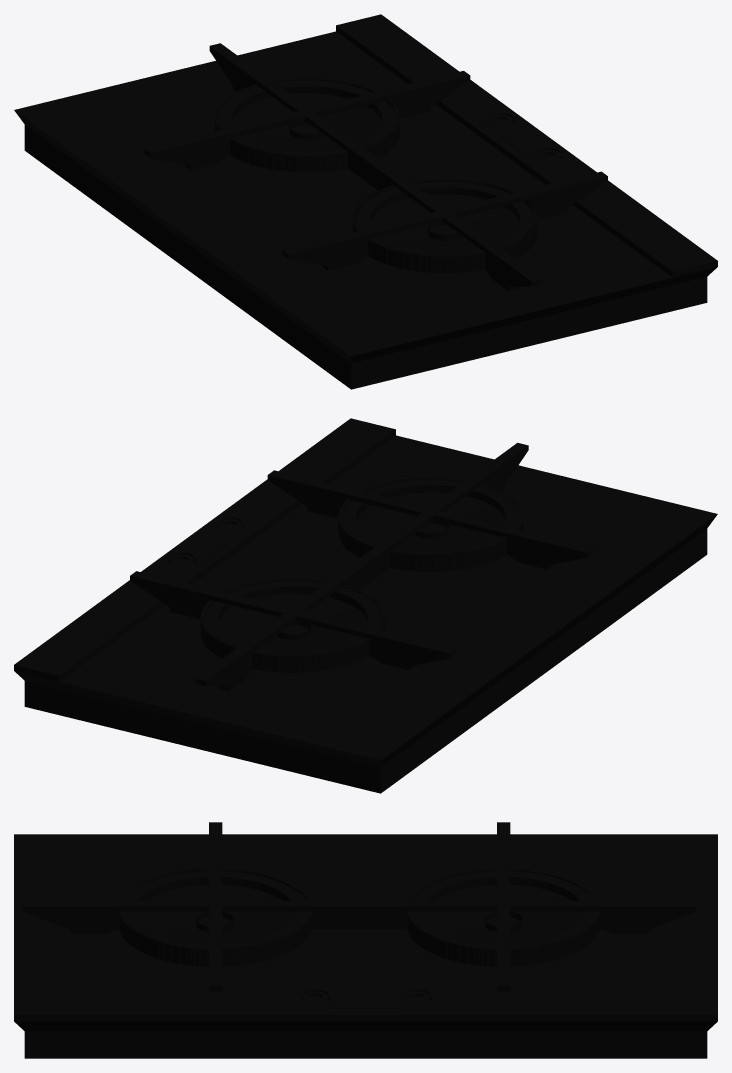
Rendered from stove.gltf.
The picture shows the model from 3 angles, top to bottom: view 1: azimuth 30°, elevation 25°; view 2: azimuth 150°, elevation 25°; view 3: azimuth 270°, elevation 25°; orthographic projection. The views are drawn at different scales.
Parts seen in each view (by area): view 1: Plane; view 2: Plane; view 3: Plane.
Part boxes in pixels (x1,y1,x2,y2): Plane: [14, 14, 717, 389]; Plane: [14, 418, 717, 793]; Plane: [14, 822, 717, 1058].
Size of the model in its own units: 5.14 by 0.8667 by 8.17.
1 material, 1 textured.
